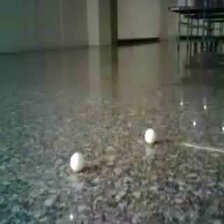w: (68, 151, 85, 171), (143, 127, 156, 145)
